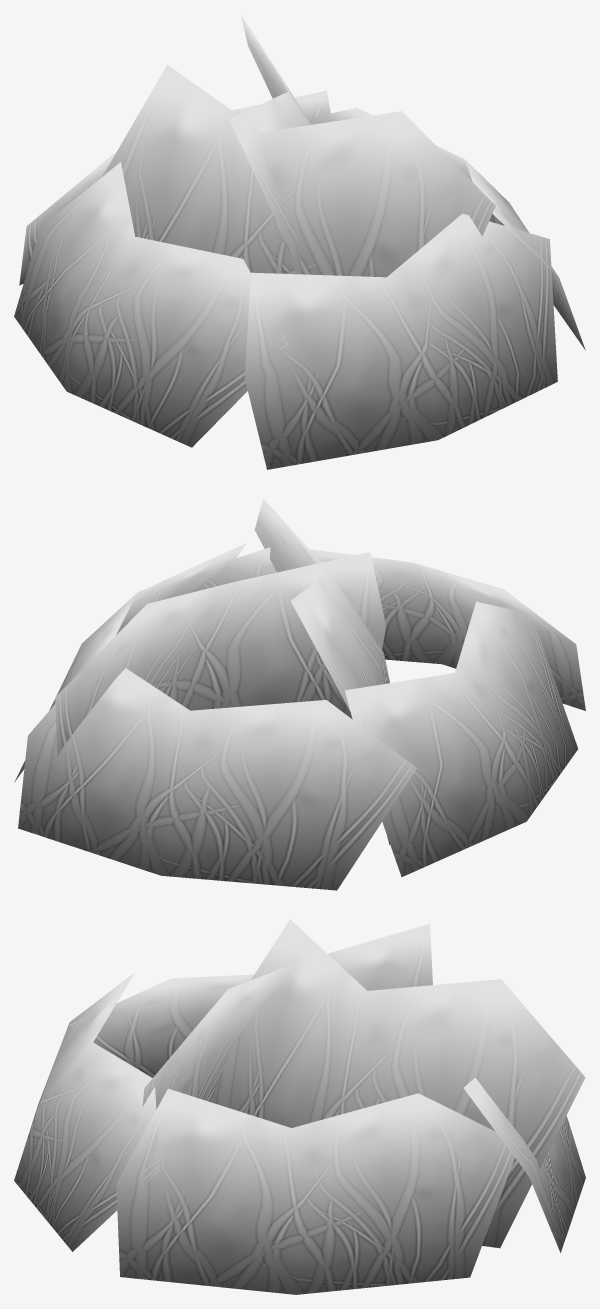
The model's file is SM_Grass_Patch_A.fbx.
3 views of the same model, one above another, from view 1: azimuth 30°, elevation 25°; view 2: azimuth 150°, elevation 25°; view 3: azimuth 270°, elevation 25° (orthographic). The views are drawn at different scales.
Visible parts, largest first — view 1: SM_Grass_Patch_A_LOD0; view 2: SM_Grass_Patch_A_LOD0; view 3: SM_Grass_Patch_A_LOD0.
Part boxes in pixels (x1=…): SM_Grass_Patch_A_LOD0: x1=14, y1=15, x2=585, y2=469; SM_Grass_Patch_A_LOD0: x1=14, y1=498, x2=585, y2=890; SM_Grass_Patch_A_LOD0: x1=14, y1=919, x2=585, y2=1294.
Size of the model in its own units: 78.59 by 84.98 by 37.56.
Materials: 1 (1 with a texture image).
